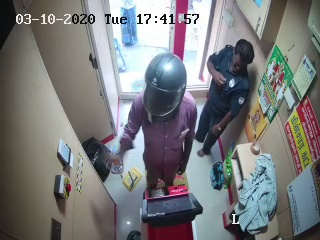helmet: (137, 53, 190, 124)
